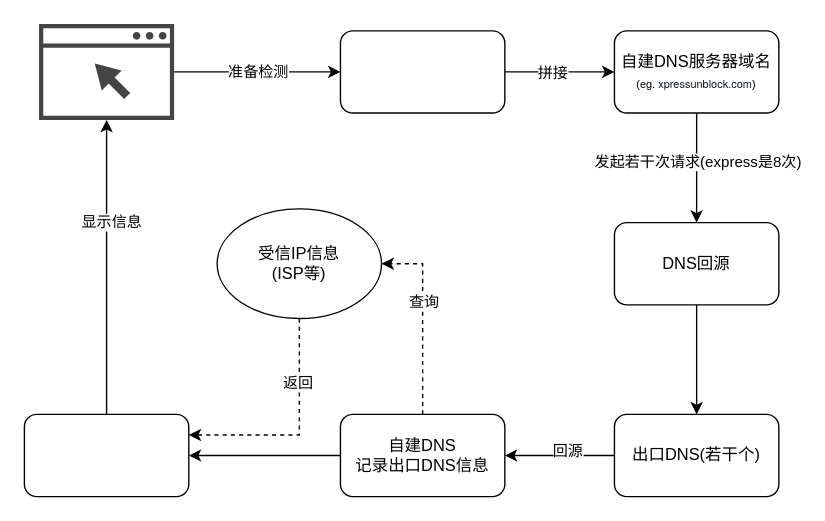
Image size: 825x521. Some labels were removed from this diagram. Here are the shapes that lost their labels. From the top down, the centre of each, then its label:
At point 422,71: "随机长字符串".
At point 106,455: "得到出口DNS信息".
